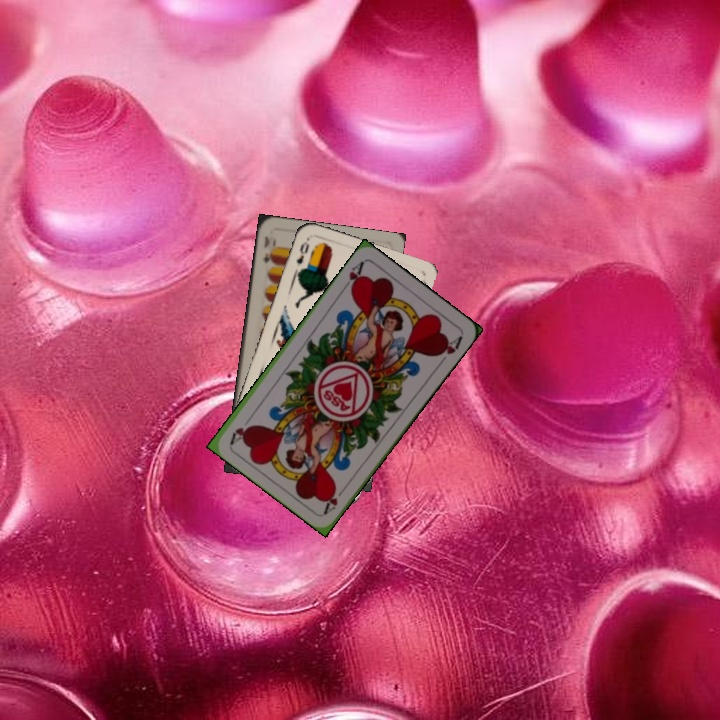E10: (259, 232, 278, 267)
EO: (292, 235, 312, 268)
HA: (320, 481, 350, 516), (338, 257, 367, 293)
